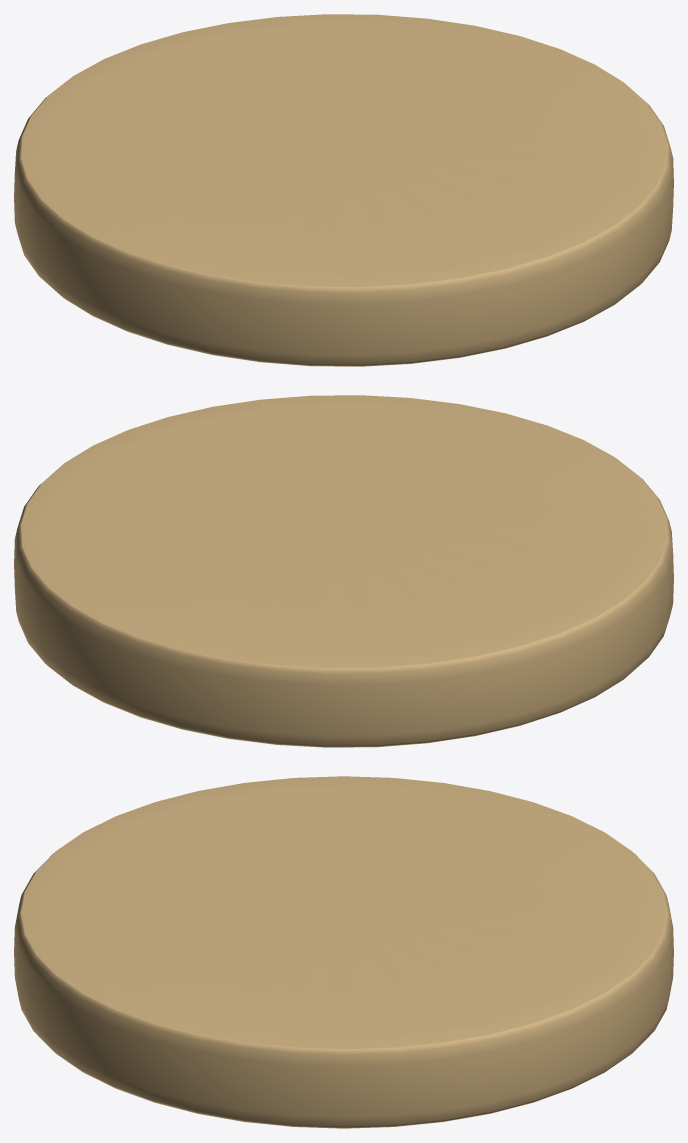
The model's file is Bread_bottom.fbx.
3 views of the same model, one above another, from view 1: azimuth 30°, elevation 25°; view 2: azimuth 150°, elevation 25°; view 3: azimuth 270°, elevation 25° (orthographic).
Parts seen in each view (by area): view 1: pCylinder23; view 2: pCylinder23; view 3: pCylinder23.
Boxes of the visible parts, left/top/right/bottom form: pCylinder23: left=14, top=14, right=673, bottom=366; pCylinder23: left=14, top=395, right=673, bottom=747; pCylinder23: left=14, top=776, right=673, bottom=1128.
Bounding box in the file's own units: 3.72 × 0.5049 × 3.72.
